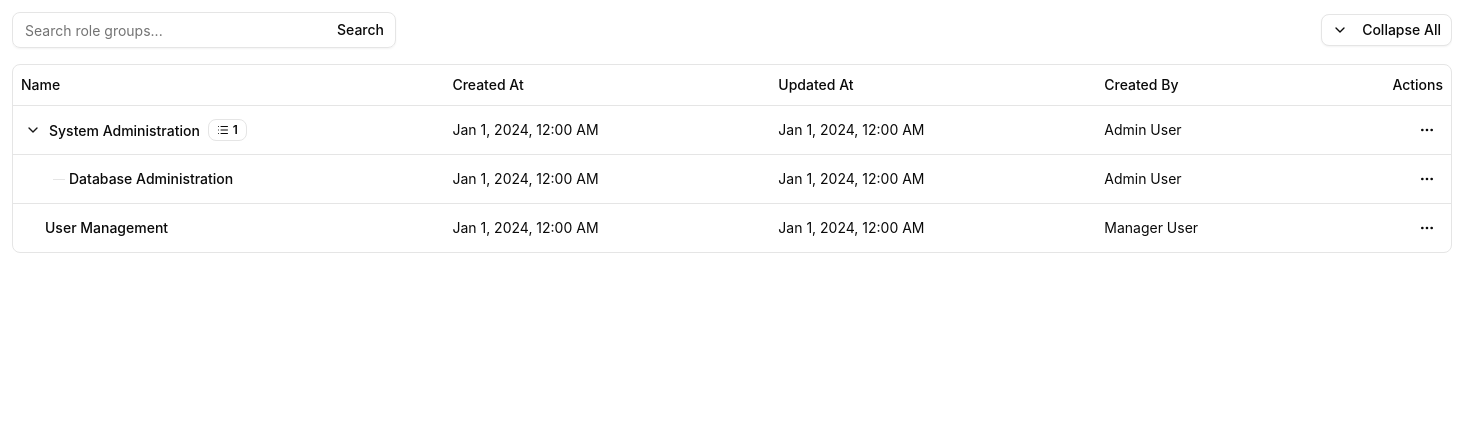
Test: RoleGroupList Component › Move Functionality › shows move options in dropdown menu when user has move permission
Click the 1st button named "Open menu".
click(1427, 130)  # box [1411,114,1443,146]
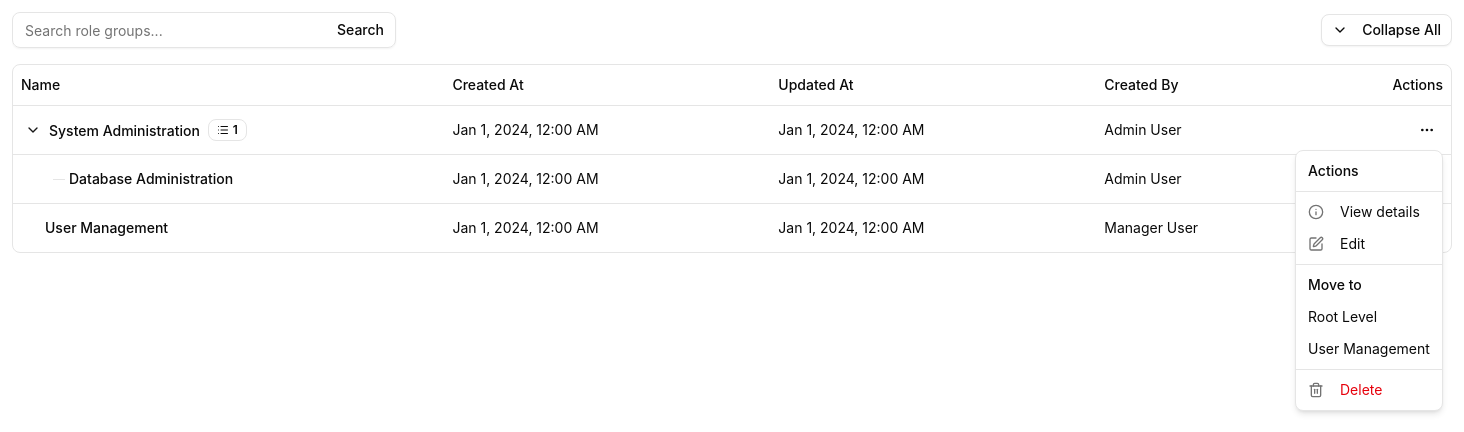
Now the text "Move to" is shown, box [1308,276,1362,293]
Now the menu item "Root Level" is shown, box [1308,308,1377,325]
